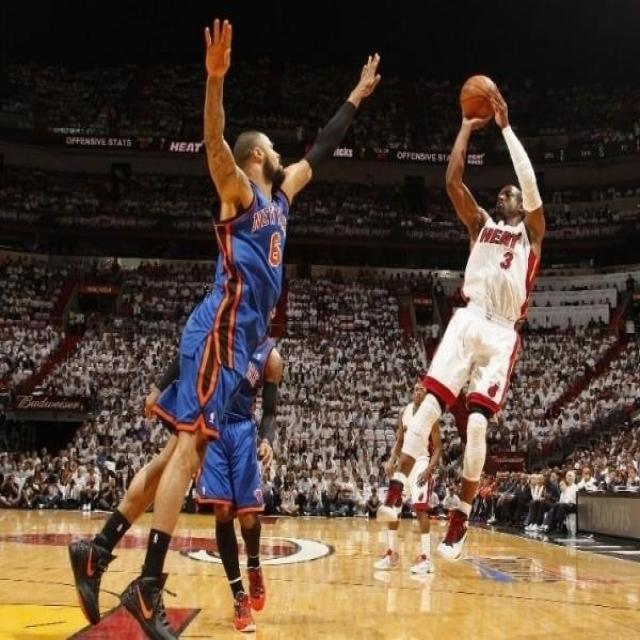basketball: (459, 74, 498, 119)
